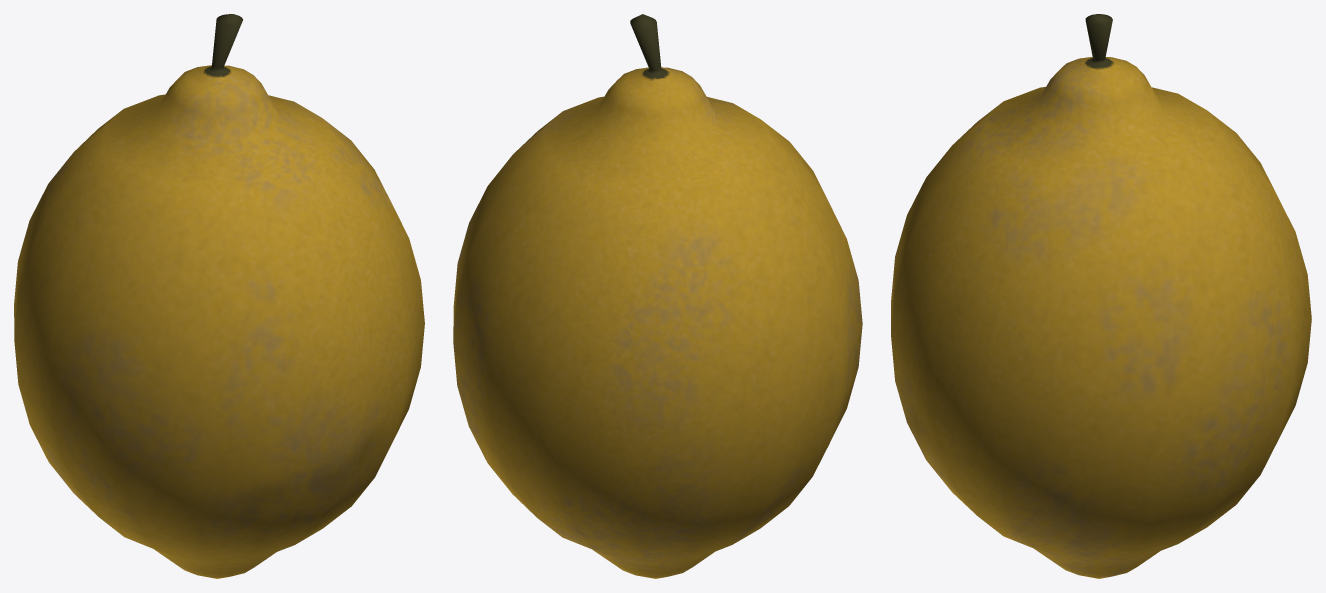
Rendered from Limone_Marcio.fbx.
3 views of the same model, side by side, from view 1: azimuth 30°, elevation 25°; view 2: azimuth 150°, elevation 25°; view 3: azimuth 270°, elevation 25° (orthographic). The views are drawn at different scales.
Parts seen in each view (by area): view 1: Limone.001; view 2: Limone.001; view 3: Limone.001.
Boxes of the visible parts, x1,y1,x2,y2 form: Limone.001: (14, 14, 424, 578); Limone.001: (453, 14, 862, 578); Limone.001: (891, 14, 1311, 578).
Bounding box in the file's own units: 229 × 346 × 230.
